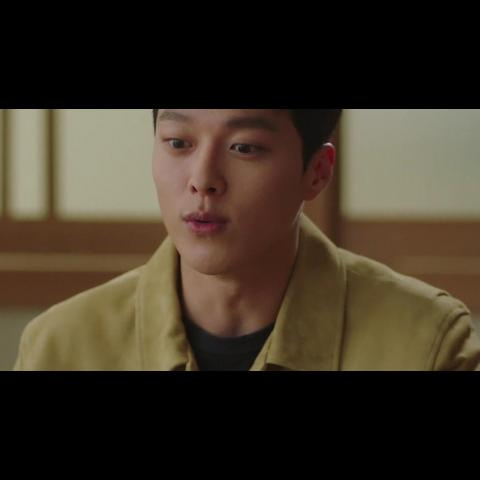opened: (150, 112, 286, 170)
